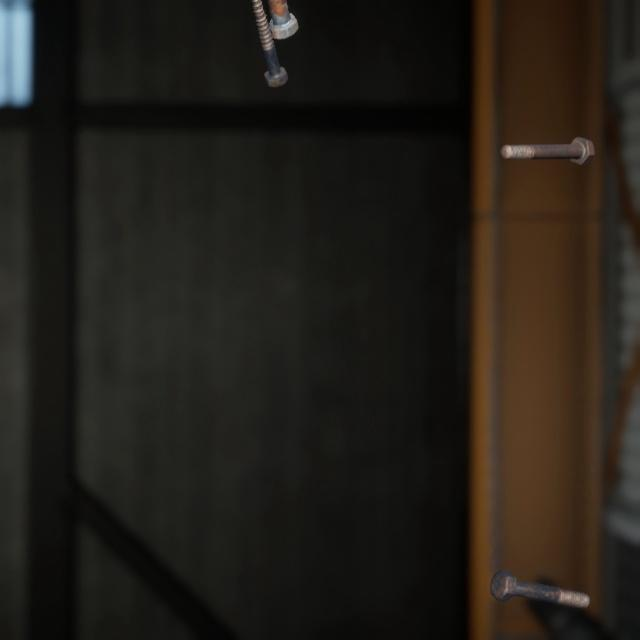bolt: (485, 541, 594, 589), (495, 119, 599, 156), (248, 0, 292, 82), (264, 0, 303, 37)
